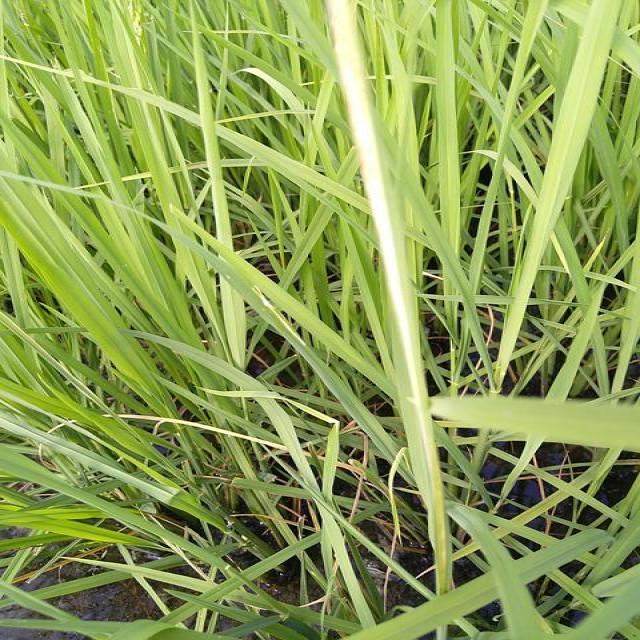Leaf Blight: (323, 0, 453, 597)
